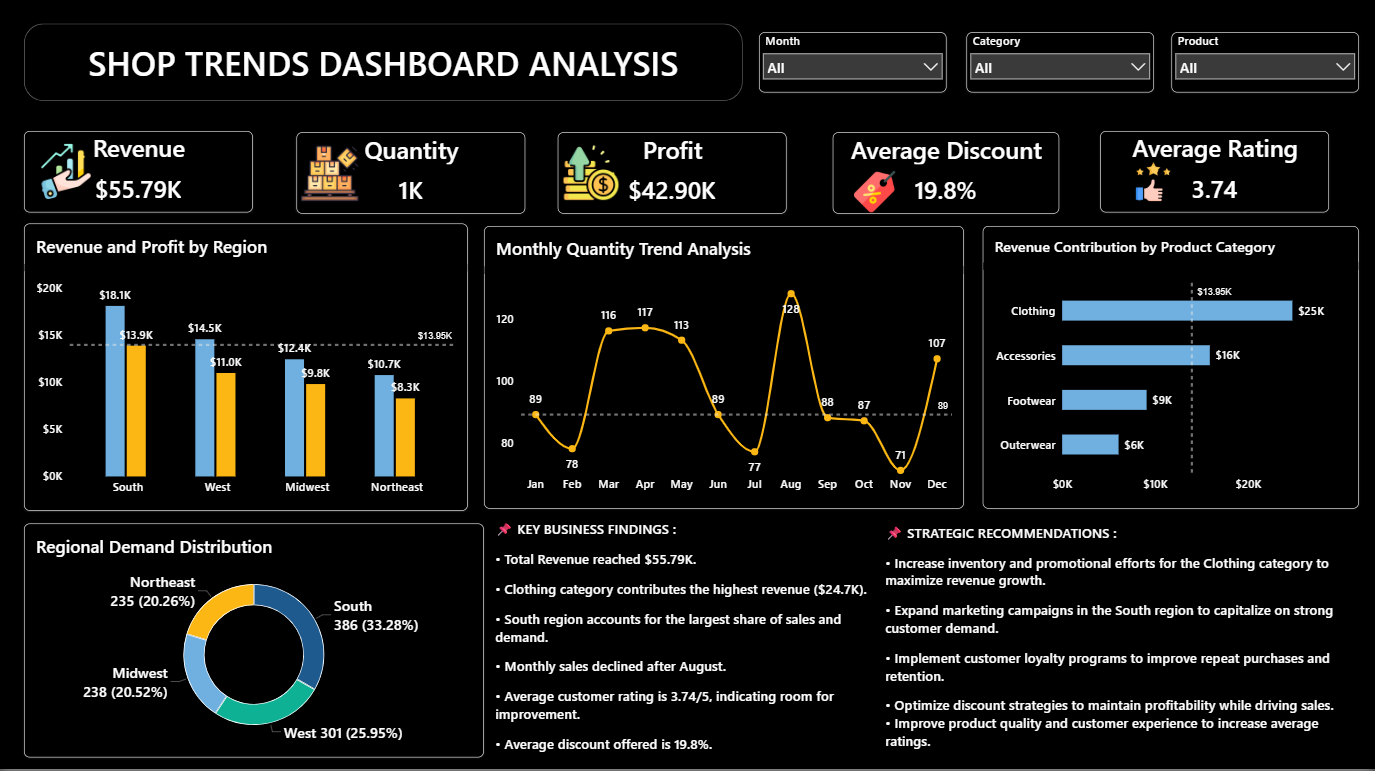

Layout of this report page (visuals, bound fields, positions):
{"tool":"powerbi","page":{"name":"Home","canvas":[1920,1080],"ordinal":0},"visuals":[{"type":"cardVisual","title":"Revenue","fields":{"Data":["Shoping_trend.Total_revenue"]},"box":[34.9,188.4,319.2,113.4],"z":0},{"type":"shape","box":[34.9,38.4,1002.9,108.1],"z":1000},{"type":"clusteredColumnChart","title":"Revenue and Profit by Region","fields":{"Category":["Shoping_trend.Region"],"Y":["Shoping_trend.Total_revenue","Shoping_trend.profit"]},"box":[34.9,317.4,619.2,401.2],"z":2000},{"type":"cardVisual","title":"Quantity ","fields":{"Data":["Shoping_trend.Total Quantity"]},"box":[415.1,190.1,319.2,113.4],"z":3000},{"type":"cardVisual","title":"Profit","fields":{"Data":["Shoping_trend.profit"]},"box":[779.7,190.1,319.2,113.4],"z":4000},{"type":"cardVisual","title":"Average Discount","fields":{"Data":["Shoping_trend.Avg discount"]},"box":[1163.4,190.1,315.7,113.4],"z":5000},{"type":"cardVisual","title":"Average Rating","fields":{"Data":["Shoping_trend.Avg rating"]},"box":[1536.6,188.4,319.2,113.4],"z":6000},{"type":"image","box":[47.1,204.1,92.4,82],"z":7000},{"type":"image","box":[415.1,207.6,92.4,80.2],"z":8000},{"type":"image","box":[779.7,205.8,92.4,82],"z":9000},{"type":"image","box":[1163.4,244.2,116.9,57.6],"z":10000},{"type":"image","box":[1552.3,230.2,116.9,57.6],"z":11000},{"type":"lineChart","title":"Monthly Quantity Trend Analysis","fields":{"Y":["Shoping_trend.Total Quantity"],"Category":["Shoping_trend.Month Name"]},"box":[676.7,320.9,669.8,394.2],"z":12000},{"type":"clusteredBarChart","title":"Revenue Contribution by Product Category","fields":{"Category":["Shoping_trend.Category"],"Y":["Shoping_trend.Total_revenue"]},"box":[1372.7,320.9,525,394.2],"z":13000},{"type":"donutChart","title":"Regional Demand Distribution","fields":{"Category":["Shoping_trend.Region"],"Y":["Shoping_trend.Total Quantity"]},"box":[34.9,736,641.9,326.2],"z":14000},{"type":"textbox","box":[692.4,736,530.2,326.2],"z":15000},{"type":"textbox","box":[1236.6,736,661,343.6],"z":16000},{"type":"slicer","fields":{"Values":["Shoping_trend.Month Name"]},"box":[1060.5,50.6,261.6,83.7],"z":17000},{"type":"slicer","fields":{"Values":["Shoping_trend.Category"]},"box":[1350,50.6,261.6,83.7],"z":18000},{"type":"slicer","fields":{"Values":["Shoping_trend.Product"]},"box":[1636.1,50.6,261.6,83.7],"z":19000}]}

Visuals, with their boxes in screenshot pixels (x1, y1, x2, y2), scaled from the page's 1920x1080 canvas onto the 1375x771 screenshot:
"Revenue" cardVisual: rect(25, 134, 254, 215)
shape: rect(25, 27, 743, 105)
"Revenue and Profit by Region" clusteredColumnChart: rect(25, 227, 468, 513)
"Quantity " cardVisual: rect(297, 136, 526, 217)
"Profit" cardVisual: rect(558, 136, 787, 217)
"Average Discount" cardVisual: rect(833, 136, 1059, 217)
"Average Rating" cardVisual: rect(1100, 134, 1329, 215)
image: rect(34, 146, 100, 204)
image: rect(297, 148, 363, 205)
image: rect(558, 147, 625, 205)
image: rect(833, 174, 917, 215)
image: rect(1112, 164, 1195, 205)
"Monthly Quantity Trend Analysis" lineChart: rect(485, 229, 964, 511)
"Revenue Contribution by Product Category" clusteredBarChart: rect(983, 229, 1359, 511)
"Regional Demand Distribution" donutChart: rect(25, 525, 485, 758)
textbox: rect(496, 525, 876, 758)
textbox: rect(886, 525, 1359, 770)
slicer - Shoping_trend.Month Name: rect(759, 36, 947, 96)
slicer - Shoping_trend.Category: rect(967, 36, 1154, 96)
slicer - Shoping_trend.Product: rect(1172, 36, 1359, 96)
